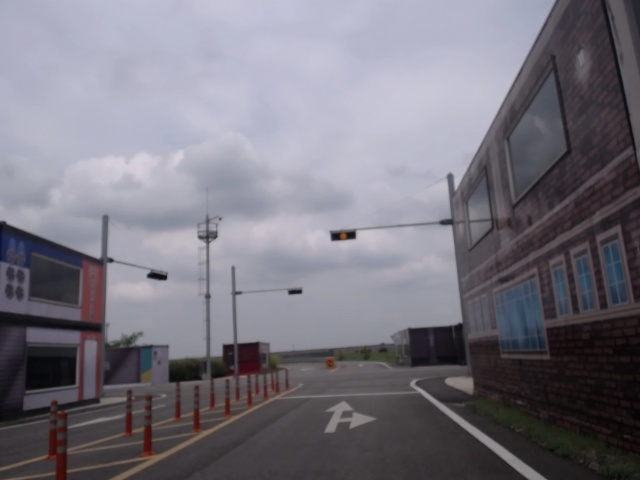orange_3: (330, 229, 356, 242)
